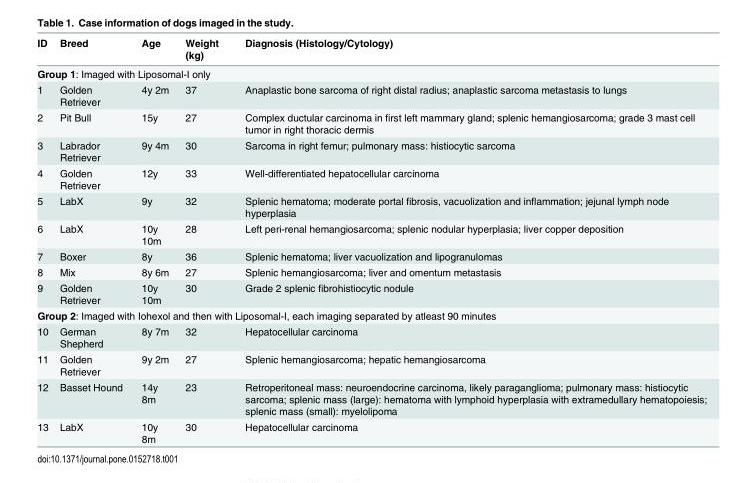table: (36, 36, 706, 444)
table column: (231, 36, 706, 444), (53, 36, 131, 444), (176, 36, 231, 444), (131, 36, 176, 444), (36, 36, 53, 444)
table column header: (36, 36, 706, 63)
table projected row header: (36, 63, 706, 81), (36, 307, 706, 323)
table row: (36, 378, 706, 418), (36, 81, 706, 109), (36, 136, 706, 164), (36, 164, 706, 192), (36, 192, 706, 220), (36, 220, 706, 248), (36, 279, 706, 307), (36, 350, 706, 378), (36, 36, 706, 63), (36, 109, 706, 136), (36, 323, 706, 350), (36, 418, 706, 444), (36, 63, 706, 81), (36, 263, 706, 279), (36, 307, 706, 323), (36, 248, 706, 263)
